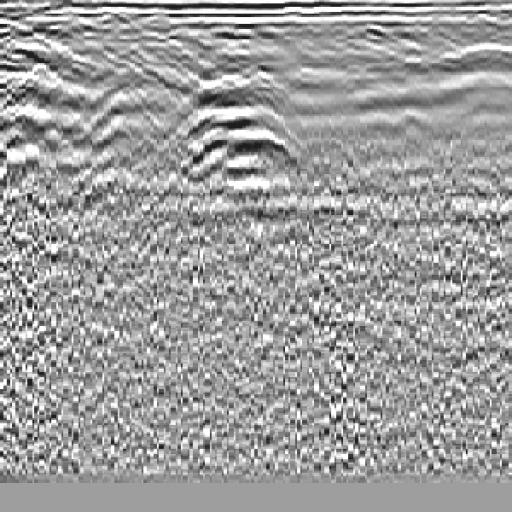metalic: (161, 60, 324, 212)
